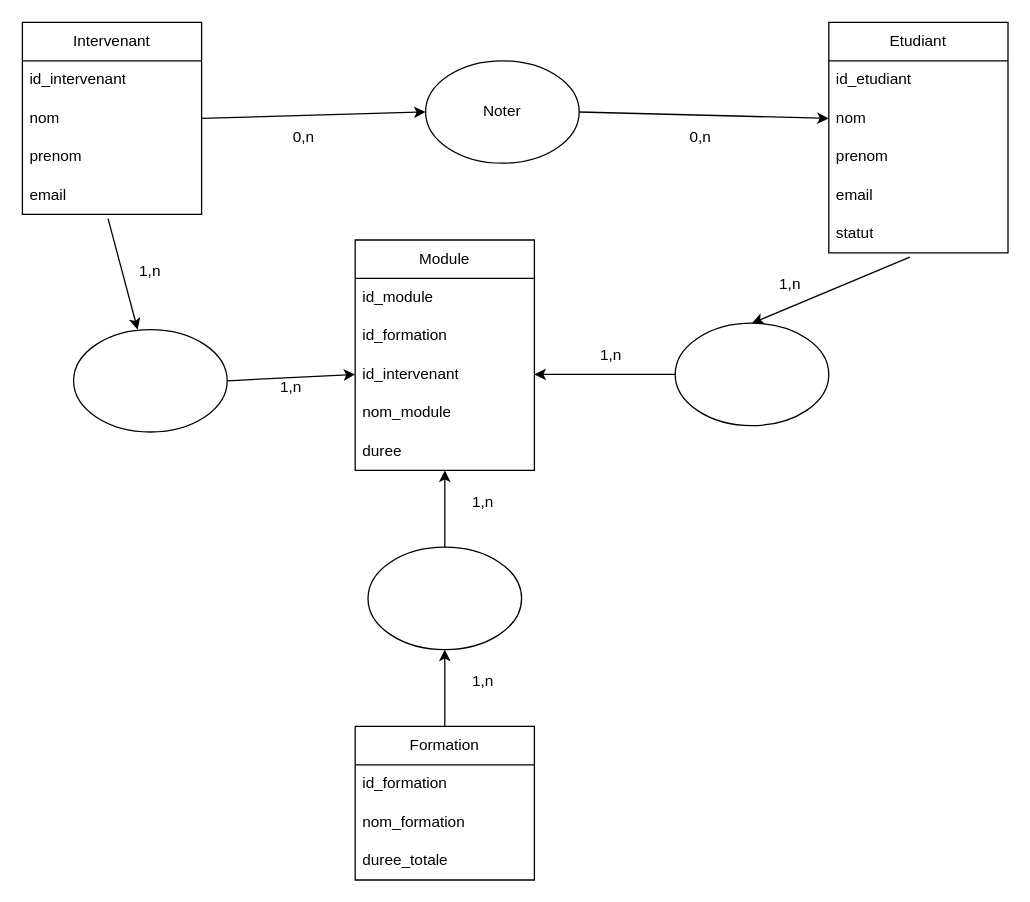
This 1030x902 diagram has some shape labels left out. The shapes that lost their labels are listed below. From the top down, each one's box as (x1, y1, x2, y2) in pixels, then its label:
(72, 328, 227, 432): Enseigner
(674, 322, 829, 426): Etudie
(367, 546, 522, 650): Contenir
